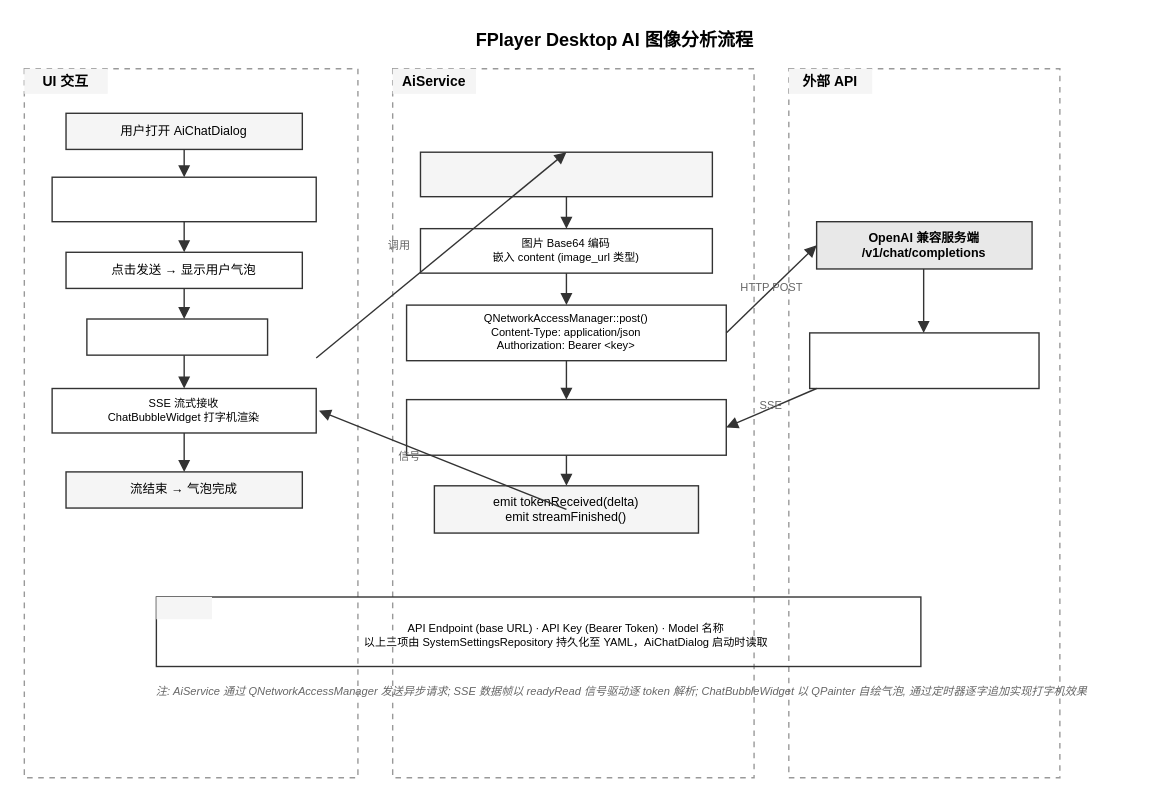
Some shapes in this 1168 by 802 pixel diagram are drawn without their labels. Here are the shapes that lost their labels. From the top down, the box of each, then its label:
(419, 151, 712, 197): 构建 OpenAI 兼容请求体 model + messages + stream: true
(51, 176, 316, 222): 输入文本 + 选择图片 (拖拽/粘贴/文件对话框)
(85, 318, 268, 355): 显示加载状态
(808, 332, 1039, 389): SSE 流式响应 data: {"choices":[{"delta":{...}}]} data: [DONE]
(405, 398, 726, 455): QNetworkReply::readyRead 逐行解析 SSE 数据帧 提取 data: {...} JSON
(156, 596, 211, 619): 配置
